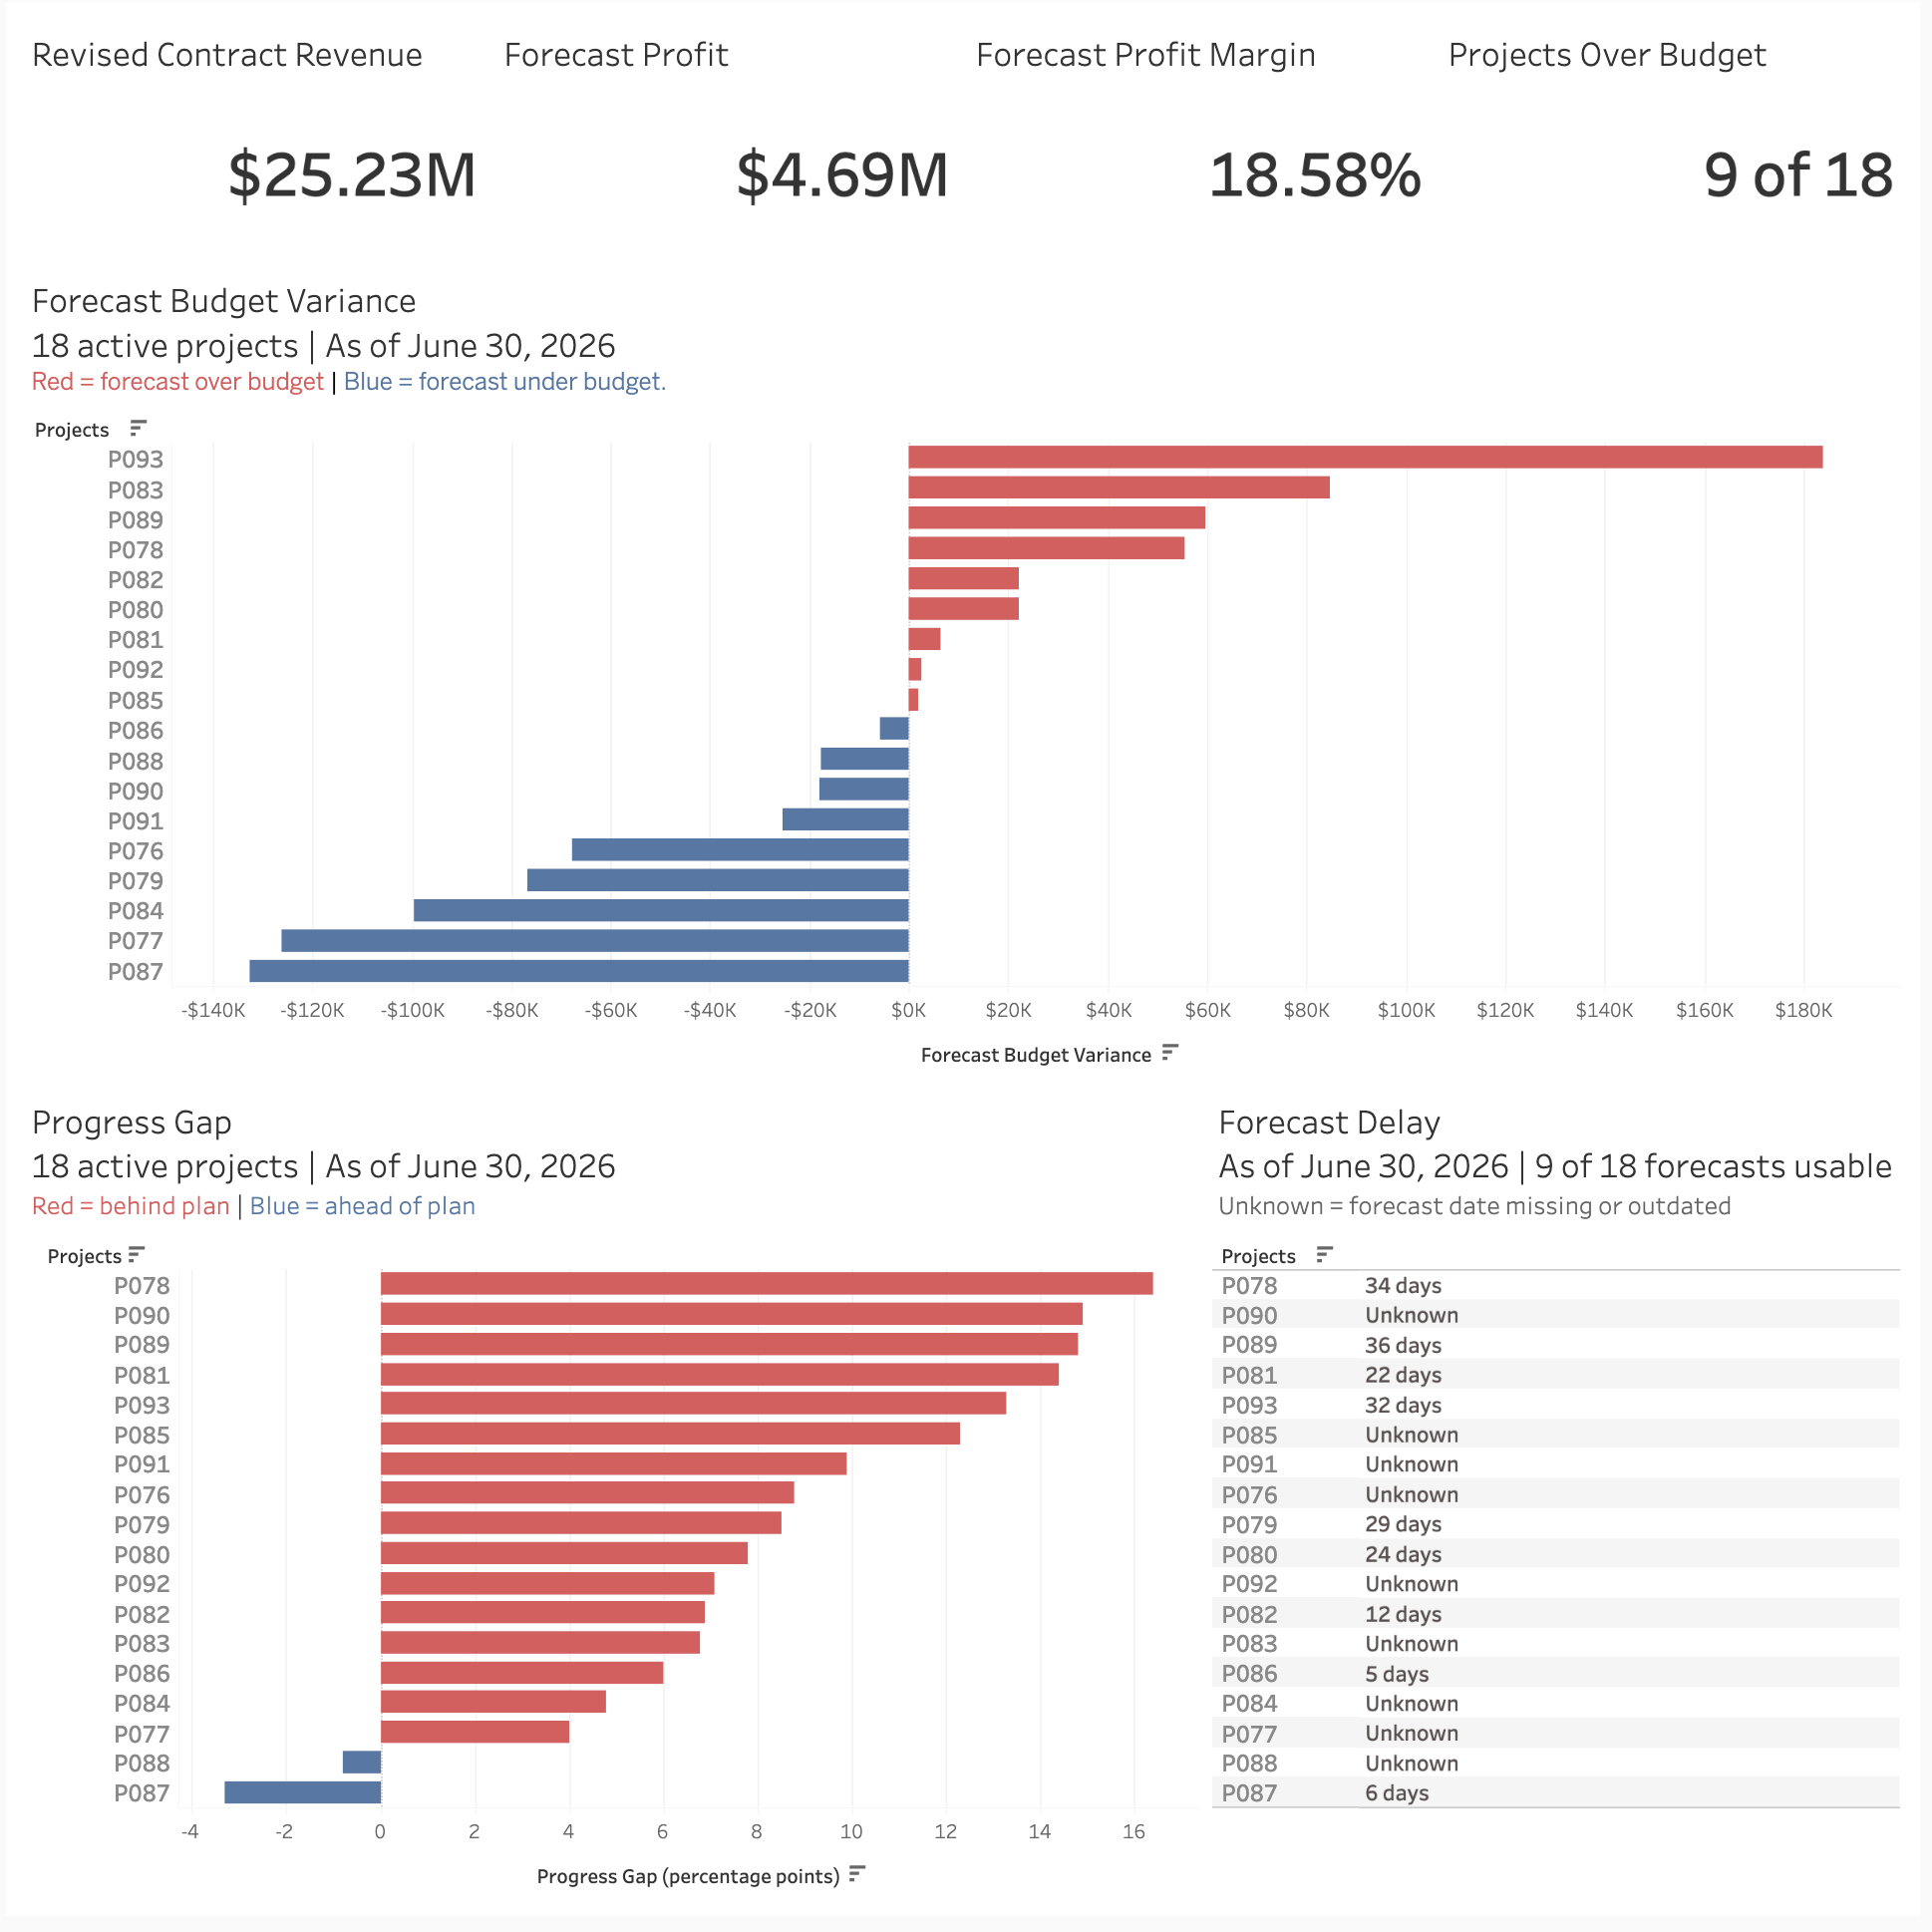

The dashboard page shown, as its layout file describes it:
{"tool":"tableau","page":{"name":"Active Project Risk","canvas":[1200,1200],"ordinal":0},"visuals":[{"type":"worksheet","title":"KPI - Contract Revenue","mark":"Automatic","box":[8,8,296,154]},{"type":"worksheet","title":"KPI - Forecast Profit","mark":"Automatic","box":[304,8,296,154]},{"type":"worksheet","title":"KPI - Forecast profit Margin","mark":"Automatic","box":[600,8,296,154]},{"type":"worksheet","title":"KPI -Project Over Budget","mark":"Automatic","box":[896,8,296,154]},{"type":"worksheet","title":"Forecast Budget Variance","mark":"Automatic","rows":["project_id"],"cols":["forecast_budget_variance"],"box":[8,162,1184,515]},{"type":"worksheet","title":"Progress Gap","mark":"Automatic","rows":["project_id"],"cols":["progress_gap_pp"],"box":[8,677,744,515]},{"type":"worksheet","title":"Forecast Delay","mark":"Automatic","rows":["project_id"],"box":[752,677,440,514.8]}]}

Visuals, with their boxes in screenshot pixels (x1, y1, x2, y2), scaled from the page's 1200x1200 canvas onto the 1932x1932 screenshot:
"KPI - Contract Revenue" worksheet: detection(13, 13, 489, 261)
"KPI - Forecast Profit" worksheet: detection(489, 13, 966, 261)
"KPI - Forecast profit Margin" worksheet: detection(966, 13, 1443, 261)
"KPI -Project Over Budget" worksheet: detection(1443, 13, 1919, 261)
"Forecast Budget Variance" worksheet: detection(13, 261, 1919, 1090)
"Progress Gap" worksheet: detection(13, 1090, 1210, 1919)
"Forecast Delay" worksheet: detection(1210, 1090, 1919, 1919)
